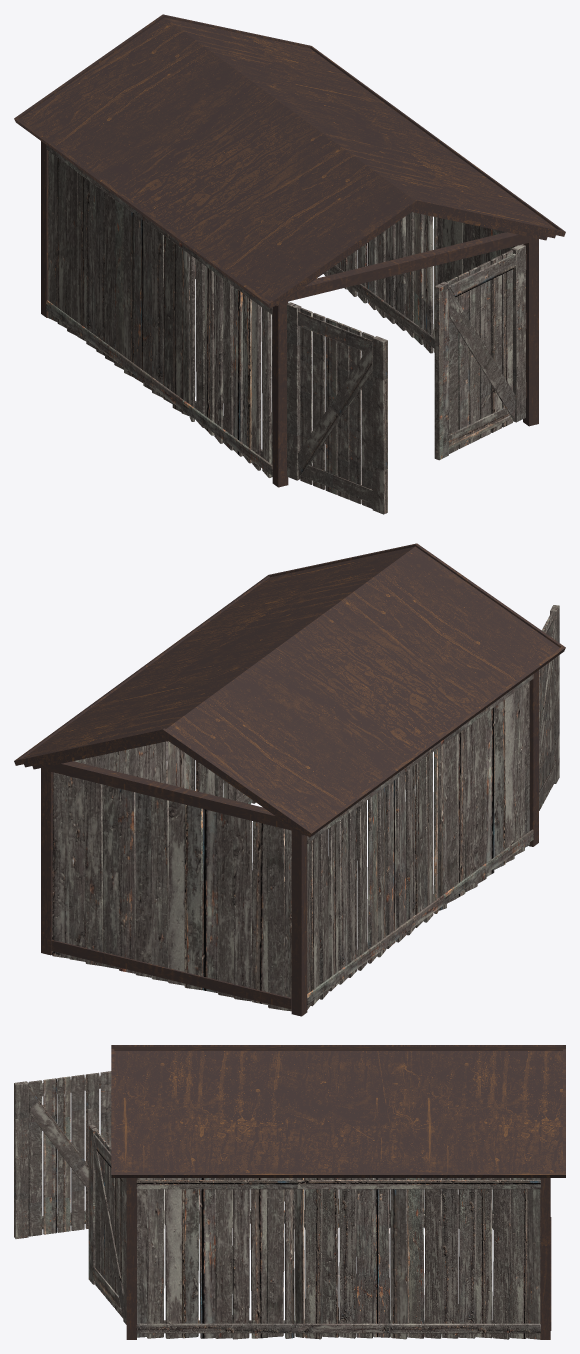
The picture shows the model from 3 angles, top to bottom: view 1: azimuth 30°, elevation 25°; view 2: azimuth 150°, elevation 25°; view 3: azimuth 270°, elevation 25°; orthographic projection. The views are drawn at different scales.
Parts seen in each view (by area): view 1: BASE, L, R; view 2: BASE, L; view 3: BASE, L, R.
Boxes of the visible parts, box(x1,y1,x2,y2) form: BASE: box(14, 14, 565, 487); L: box(287, 302, 387, 514); R: box(434, 244, 526, 460); BASE: box(14, 543, 565, 1016); L: box(539, 605, 559, 810); BASE: box(111, 1045, 565, 1339); L: box(14, 1071, 111, 1238); R: box(88, 1124, 126, 1324).
Size of the model in its own units: 594 by 501 by 1067.
2 materials, 2 textured.
